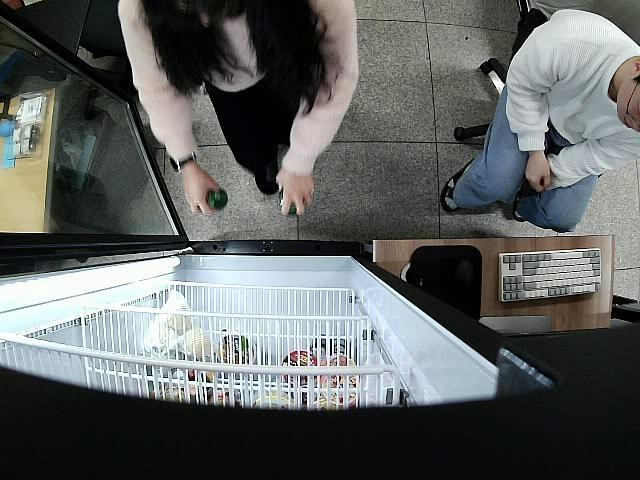12_chilsungCider: (206, 187, 229, 212), (278, 188, 296, 216)
